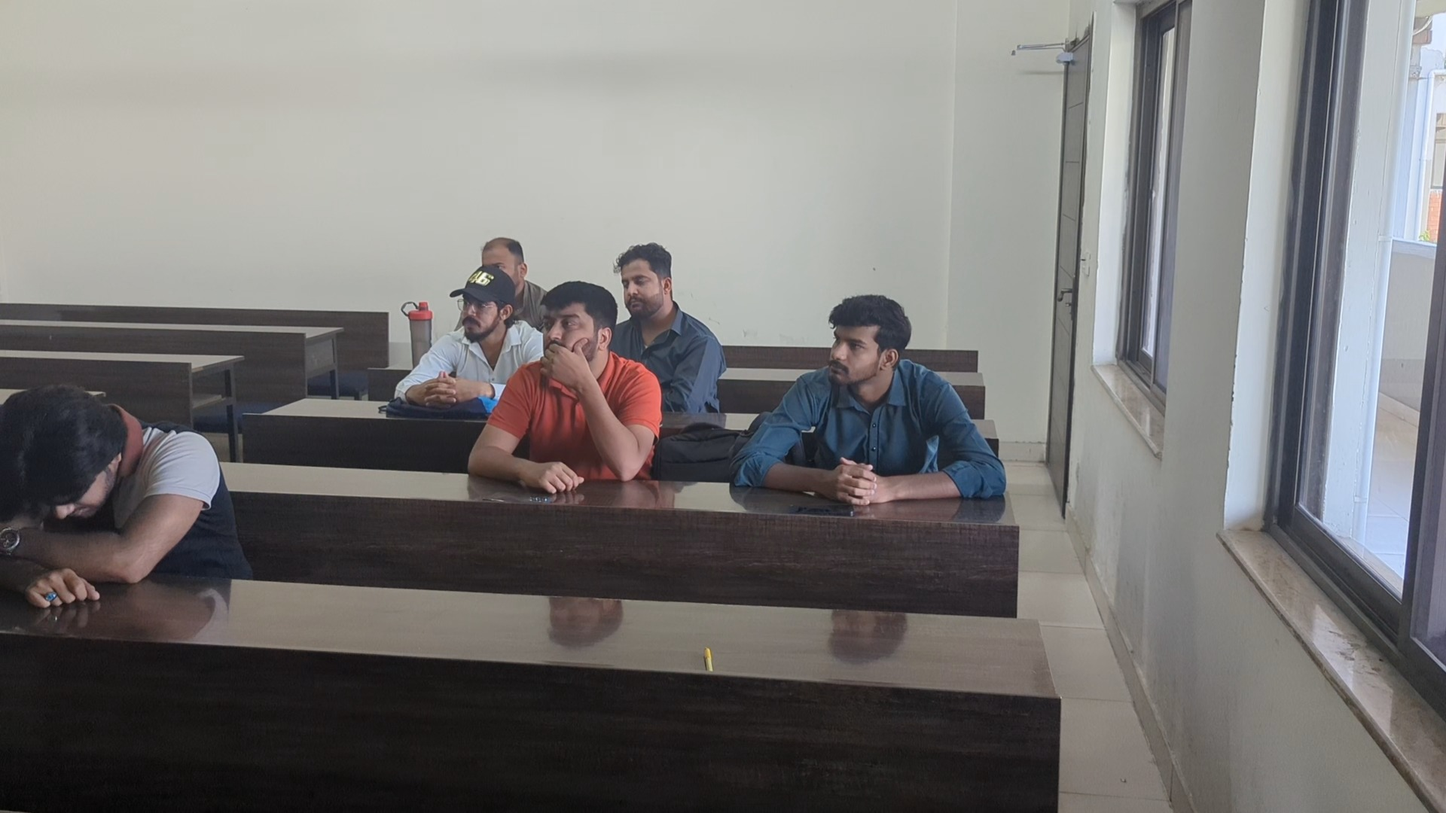look_forward: (743, 280, 1009, 502), (463, 277, 666, 498), (602, 244, 733, 396), (411, 268, 529, 410), (470, 237, 531, 279)
sleep: (1, 383, 235, 619)
